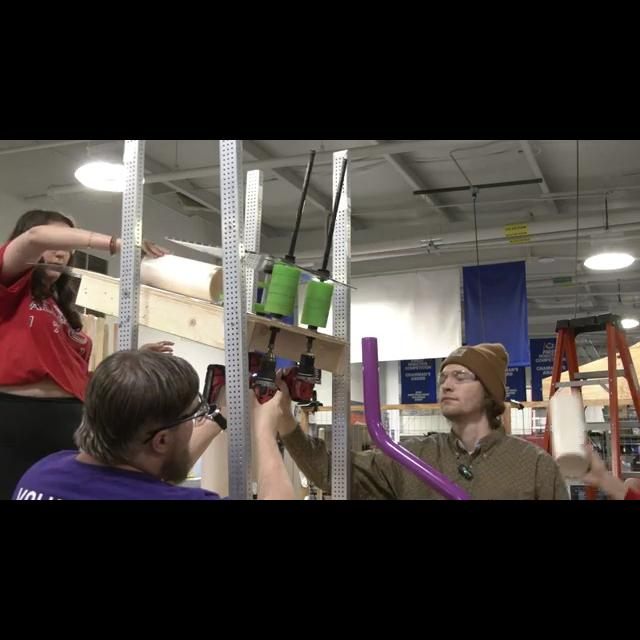CORAL: (546, 386, 590, 478), (142, 255, 224, 299)
